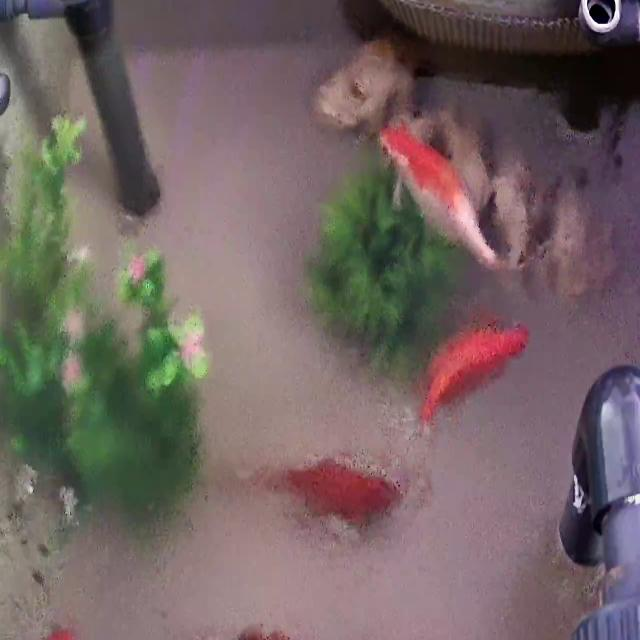fish: (378, 124, 498, 278), (419, 317, 530, 432), (262, 458, 388, 531)
